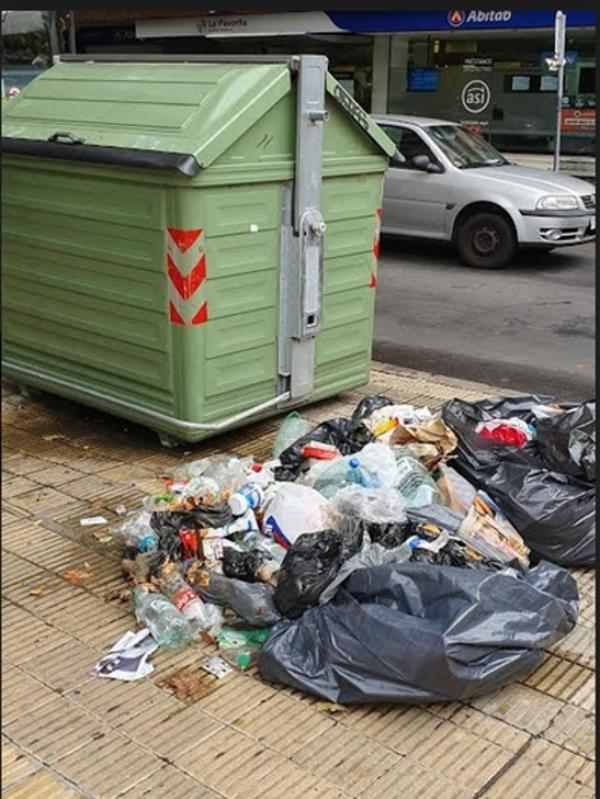Dechets: (115, 395, 595, 719), (252, 561, 580, 707), (444, 391, 597, 578), (263, 482, 336, 550), (378, 455, 447, 506), (95, 632, 160, 678), (226, 544, 271, 579)
Trash: (0, 53, 407, 448)
